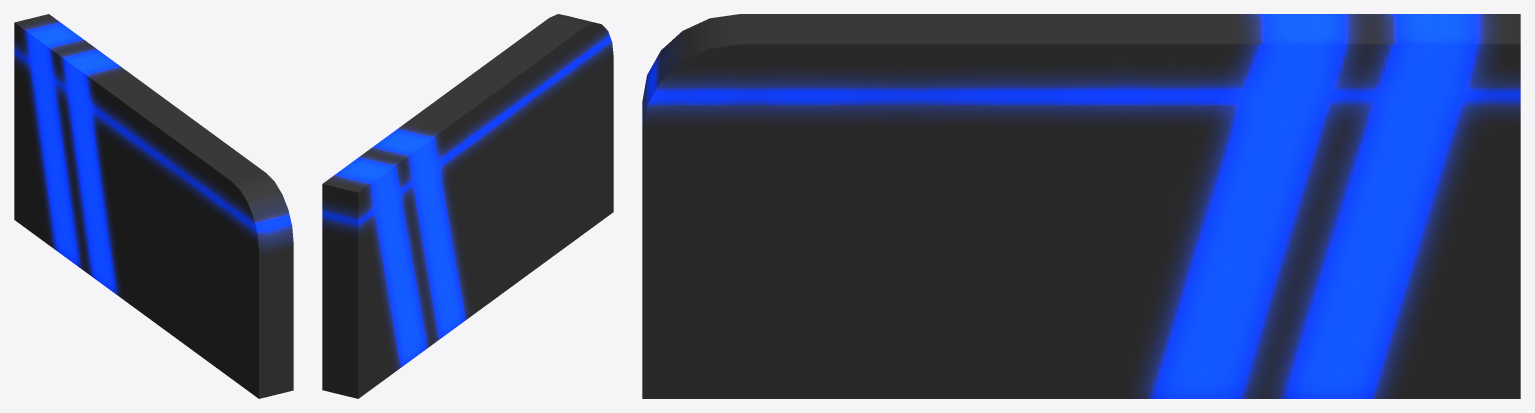
Rendered from Kabe_C_02.fbx.
3 views of the same model, side by side, from view 1: azimuth 30°, elevation 25°; view 2: azimuth 150°, elevation 25°; view 3: azimuth 270°, elevation 25° (orthographic). The views are drawn at different scales.
Parts seen in each view (by area): view 1: pCube22; view 2: pCube22; view 3: pCube22.
Boxes of the visible parts, box(x1,y1,x2,y2) form: pCube22: box(14, 14, 293, 398); pCube22: box(322, 14, 613, 398); pCube22: box(642, 14, 1520, 398).
Size of the model in its own units: 76.46 by 417 by 937.
1 material, 1 textured.
